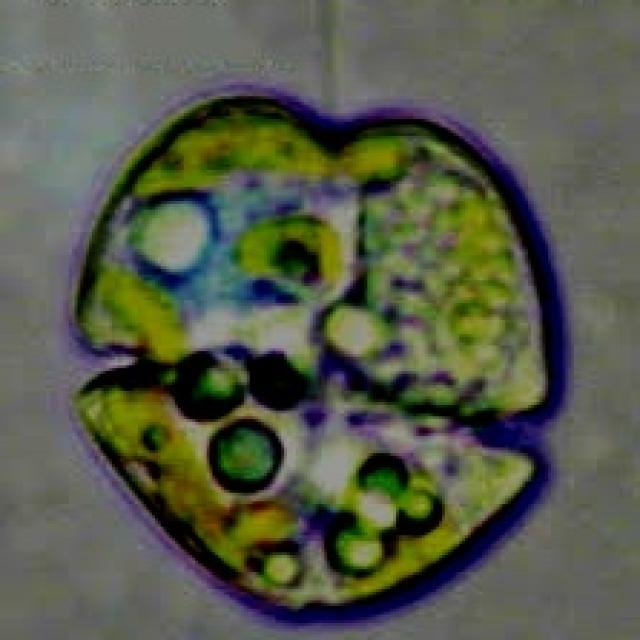Karenia: (57, 63, 580, 628)
